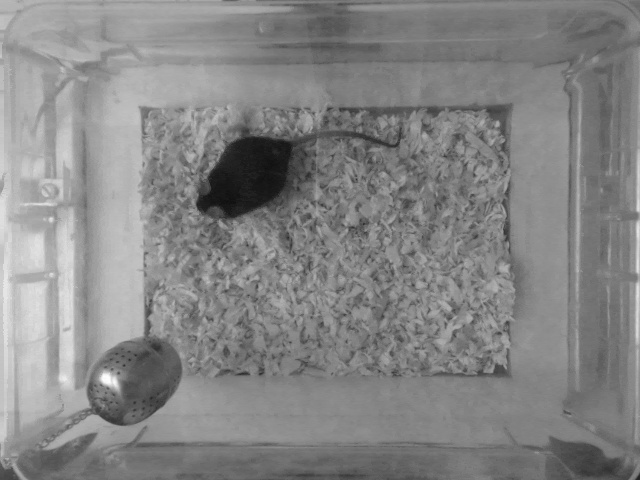mice: (190, 120, 406, 219)
